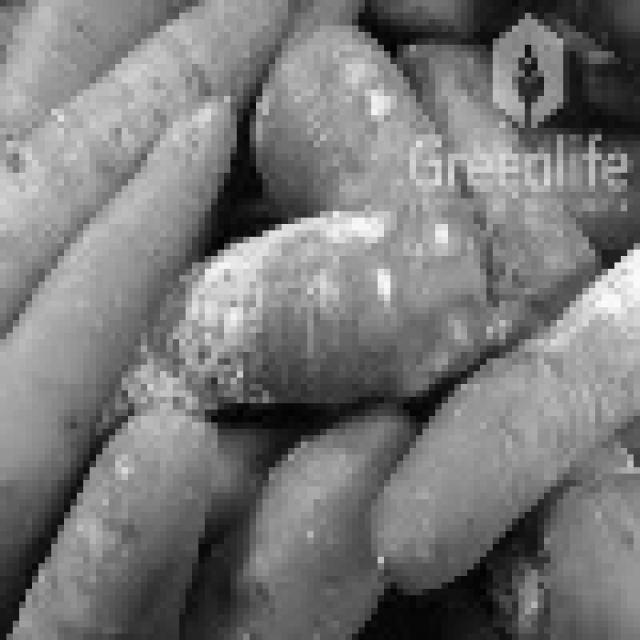Stale_Carrot: (138, 231, 506, 414), (448, 205, 640, 531), (294, 9, 496, 265)
